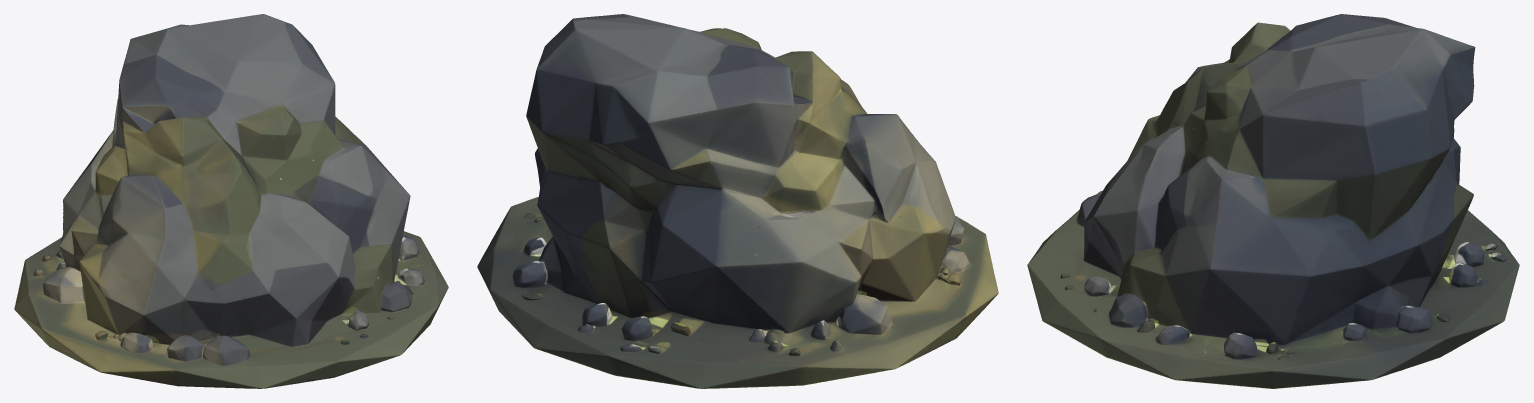
File: Meshy_AI_pierre_0401072954_texture.glb
3 renders of one model, left to right at view 1: azimuth 30°, elevation 25°; view 2: azimuth 150°, elevation 25°; view 3: azimuth 270°, elevation 25°, orthographic. The views are drawn at different scales.
Parts seen in each view (by area): view 1: Mesh_0.001; view 2: Mesh_0.001; view 3: Mesh_0.001.
Boxes of the visible parts, x1,y1,x2,y2 form: Mesh_0.001: (14, 14, 448, 388); Mesh_0.001: (477, 14, 998, 388); Mesh_0.001: (1027, 14, 1519, 388).
Bounding box in the file's own units: 2.55 × 1.5 × 2.5.
1 material, 1 textured.
